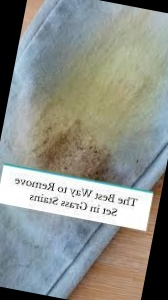earth: (24, 26, 168, 187)
